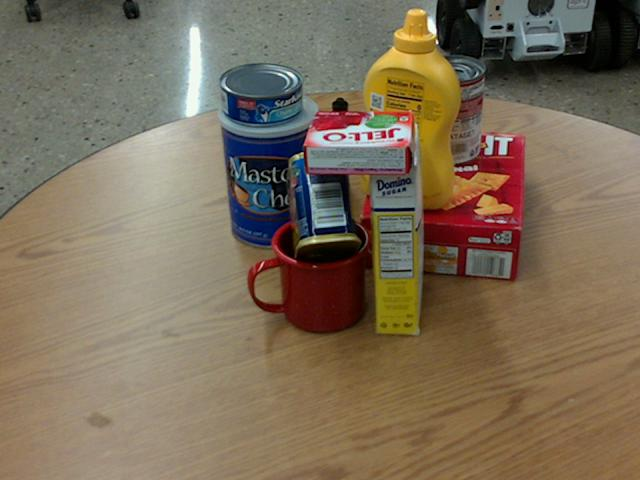cracker_box: (358, 126, 524, 280)
gelatin_box: (301, 109, 416, 175)
large_marker: (331, 99, 348, 198)
master_chef_can: (219, 88, 321, 247)
mug: (244, 214, 367, 333)
mustard_bottle: (360, 9, 461, 208)
potted_meat_can: (286, 150, 361, 269)
sugar_box: (368, 122, 420, 335)
tomato_soup_can: (420, 54, 484, 164)
tuna_fish_can: (218, 61, 302, 124)
